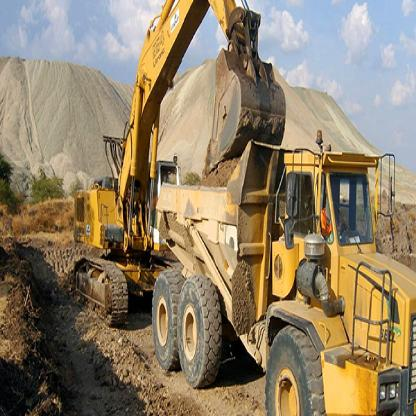dump_truck: (149, 135, 415, 415)
excavator: (62, 4, 296, 368)
